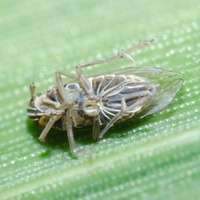insect: (27, 39, 182, 154)
